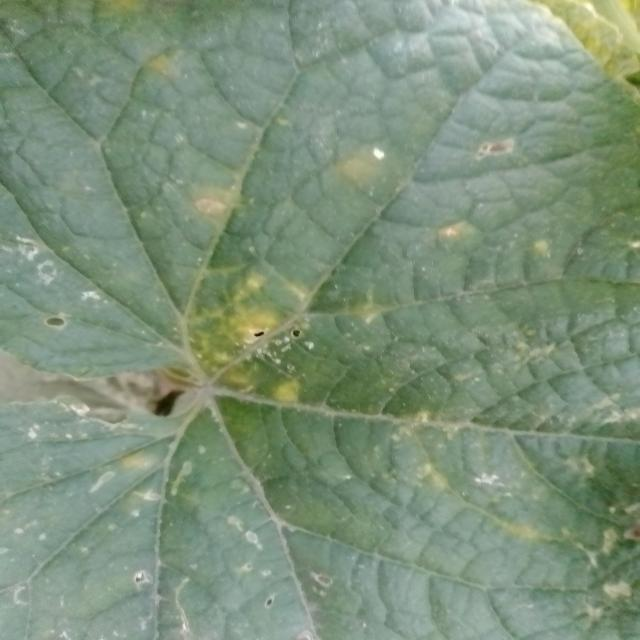cucumber_downy: (34, 0, 638, 626)
